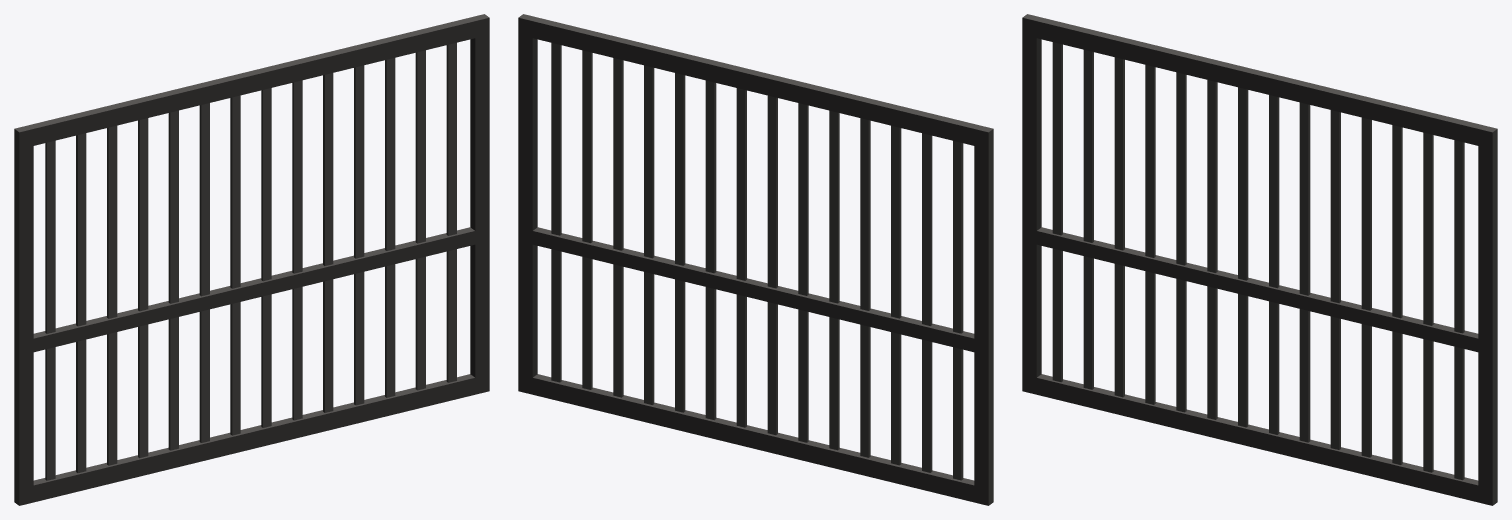
File: SecurityWallGate_Extras.fbx
3 renders of one model, left to right at view 1: azimuth 30°, elevation 25°; view 2: azimuth 150°, elevation 25°; view 3: azimuth 330°, elevation 25°, orthographic.
Visible parts, largest first — view 1: SecurityWallGate_Extras; view 2: SecurityWallGate_Extras; view 3: SecurityWallGate_Extras.
Part boxes in pixels (left/top/right/bottom): SecurityWallGate_Extras: left=14, top=14, right=489, bottom=505; SecurityWallGate_Extras: left=518, top=14, right=993, bottom=505; SecurityWallGate_Extras: left=1022, top=14, right=1497, bottom=505.
Bounding box in the file's own units: 5.56 × 0.103 × 4.22.
